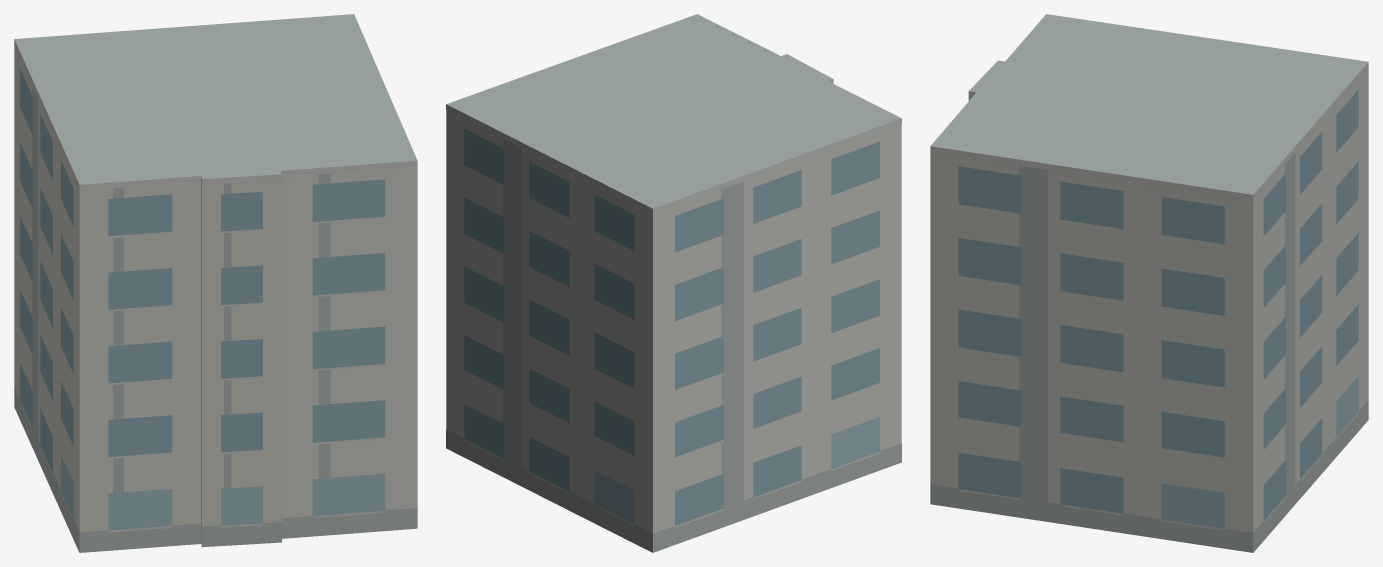
File: survey-upis-32941142.glb
The picture shows the model from 3 angles, left to right: view 1: azimuth 30°, elevation 25°; view 2: azimuth 150°, elevation 25°; view 3: azimuth 270°, elevation 25°; orthographic projection. The views are drawn at different scales.
Parts seen in each view (by area): view 1: survey-upis-32941142.tmp; view 2: survey-upis-32941142.tmp; view 3: survey-upis-32941142.tmp.
Boxes of the visible parts, x1,y1,x2,y2 form: survey-upis-32941142.tmp: (14,14,417,552); survey-upis-32941142.tmp: (446,14,901,552); survey-upis-32941142.tmp: (930,14,1368,552).
Bounding box in the file's own units: 15.39 × 14.2 × 15.77.
